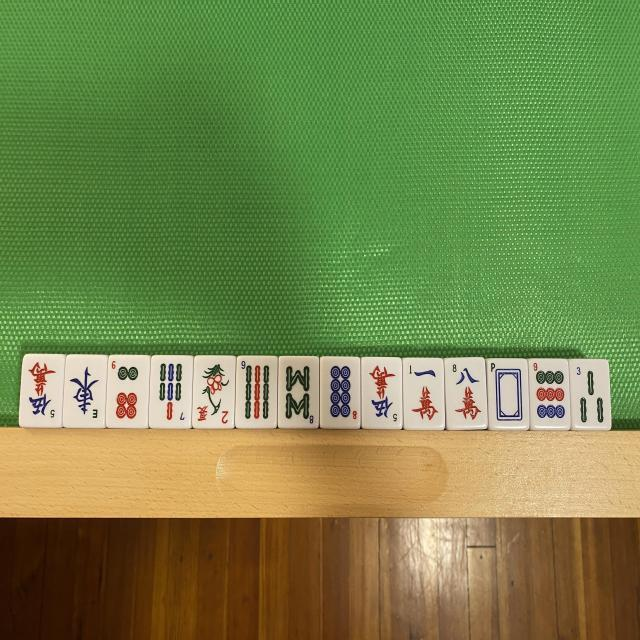bs2: (193, 356, 234, 431)
hdw: (490, 360, 530, 430)
hwe: (64, 354, 105, 426)
sb3: (573, 360, 611, 430)
sb7: (153, 356, 193, 428)
sb8: (278, 358, 318, 427)
sb9: (240, 357, 278, 428)
sc1: (405, 358, 445, 429)
sc5: (18, 352, 62, 424), (362, 360, 399, 430)
sc8: (447, 358, 488, 429)
sd6: (110, 354, 150, 426)
sd8: (324, 358, 361, 428)
sd9: (534, 358, 572, 426)
